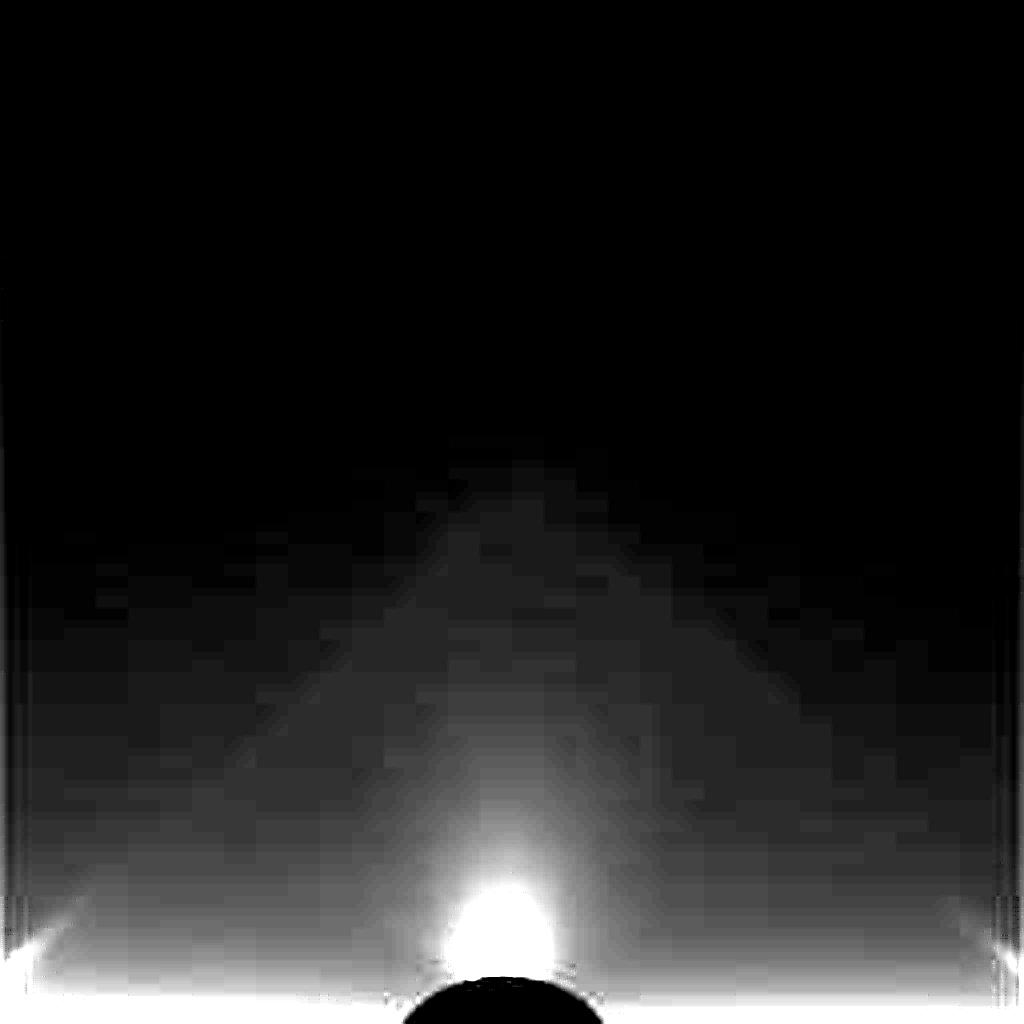plumes: (433, 884, 557, 983)
